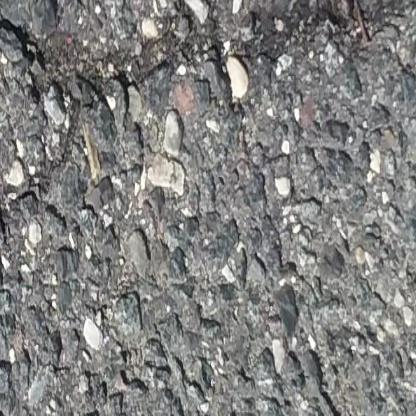Cracks: (0, 0, 416, 245)
